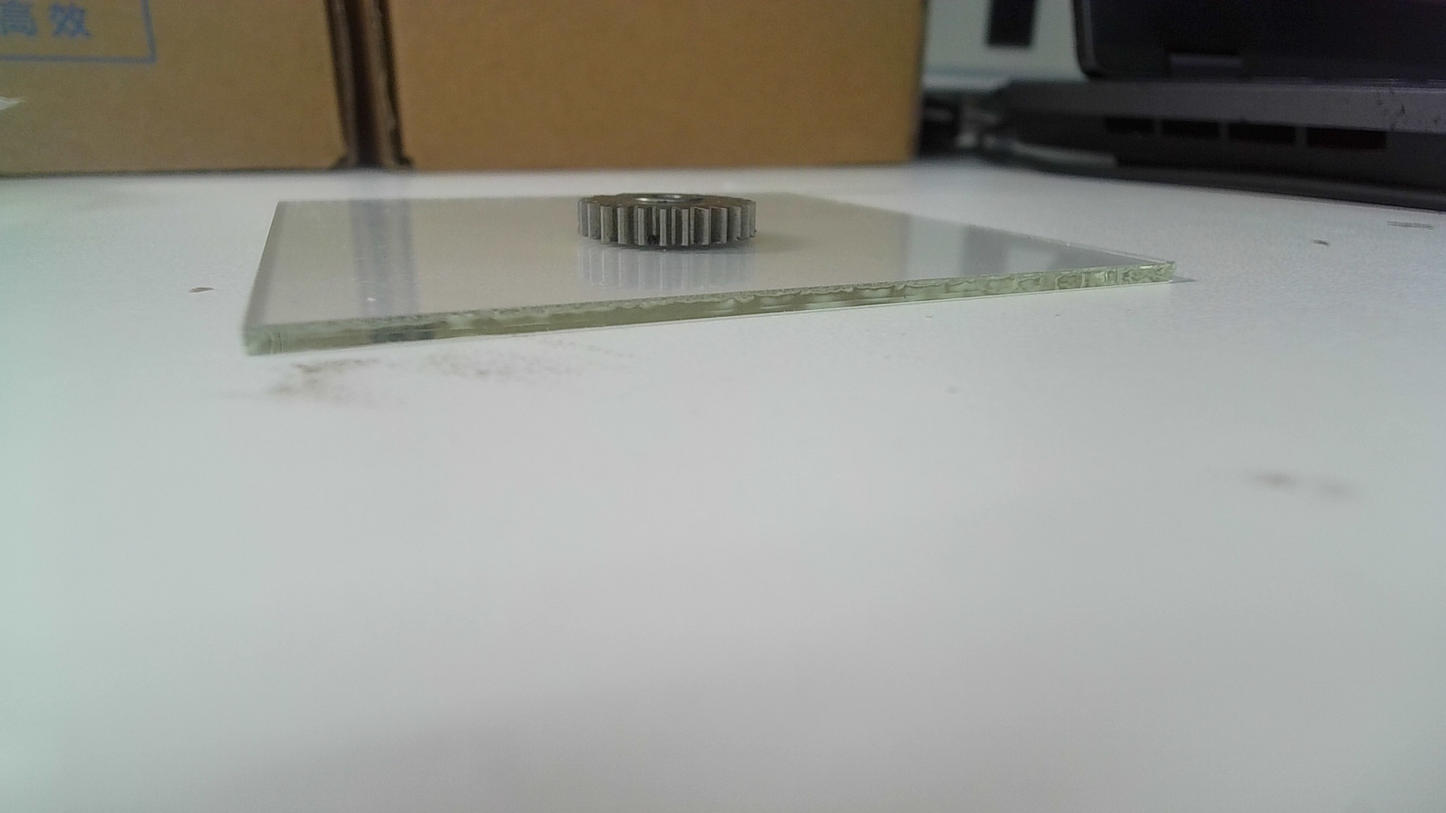gear: (575, 189, 763, 255)
